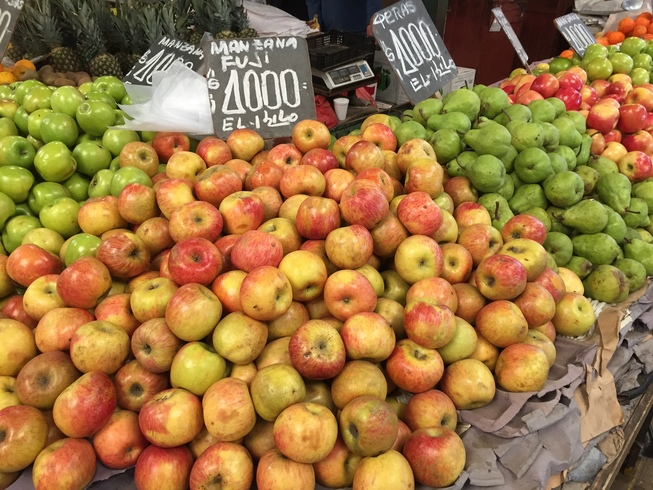precio: (207, 37, 317, 141), (368, 3, 463, 97), (136, 32, 201, 98), (550, 10, 601, 58)
